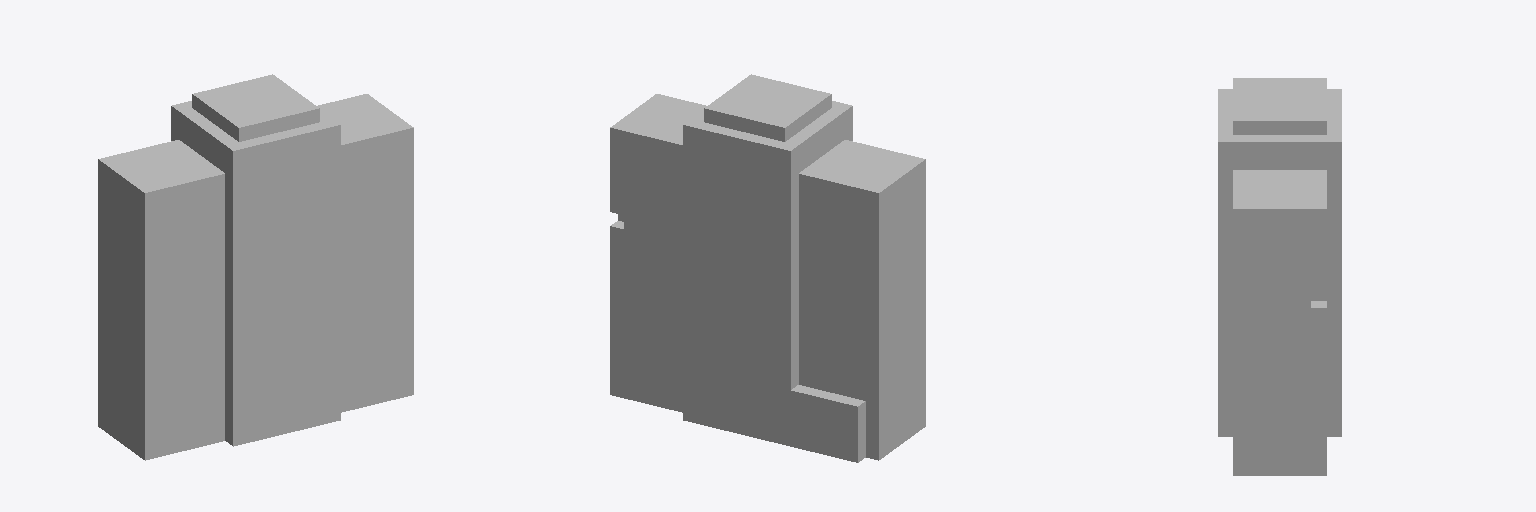
File: Stone Fence with Pole.obj
The picture shows the model from 3 angles: view 1: azimuth 30°, elevation 25°; view 2: azimuth 150°, elevation 25°; view 3: azimuth 270°, elevation 25°; orthographic projection.
Visible parts, largest first — view 1: object 1; view 2: object 1; view 3: object 1.
Part boxes in pixels (bbox=[...]): object 1: bbox=[98, 74, 413, 460]; object 1: bbox=[610, 74, 925, 462]; object 1: bbox=[1218, 78, 1341, 475].
Size of the model in its own units: 2 by 2.2 by 0.8.